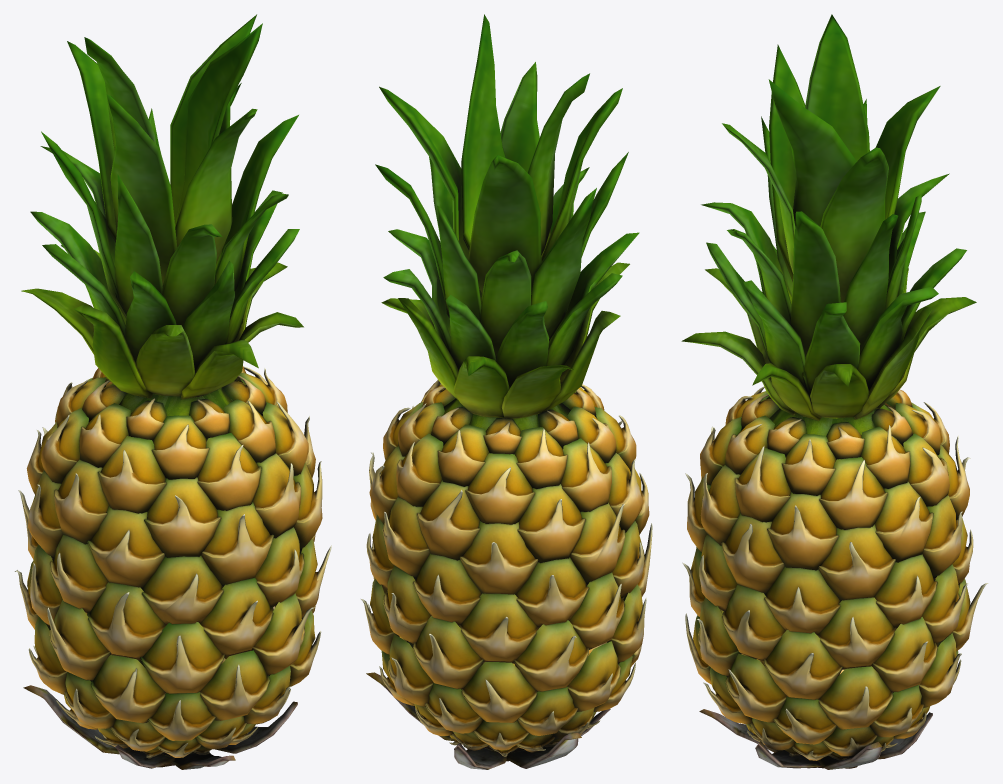
Rendered from Exploding Pinaple  Separated.fbx.
The picture shows the model from 3 angles, left to right: view 1: azimuth 30°, elevation 25°; view 2: azimuth 150°, elevation 25°; view 3: azimuth 270°, elevation 25°; orthographic projection. The views are drawn at different scales.
Visible parts, largest first — view 1: PineApple_Final.027, PineApple_Final.031, PineApple_Final.016, PineApple_Final.101, PineApple_Final.059, PineApple_Final.038, PineApple_Final.045, PineApple_Final.052, PineApple_Final.044, PineApple_Final.058, PineApple_Final.108, PineApple_Final.033 (+57 smaller); view 2: PineApple_Final.023, PineApple_Final.031, PineApple_Final.040, PineApple_Final.009, PineApple_Final.054, PineApple_Final.103, PineApple_Final.061, PineApple_Final.110, PineApple_Final.104, PineApple_Final.047, PineApple_Final.015, PineApple_Final.068 (+54 smaller); view 3: PineApple_Final.024, PineApple_Final.031, PineApple_Final.032, PineApple_Final.006, PineApple_Final.042, PineApple_Final.106, PineApple_Final.056, PineApple_Final.064, PineApple_Final.050, PineApple_Final.112, PineApple_Final.010, PineApple_Final.070 (+59 smaller).
Part boxes in pixels (x1,y1,x2,y2): PineApple_Final.027: [106, 94, 177, 285]; PineApple_Final.031: [175, 23, 262, 226]; PineApple_Final.016: [175, 108, 257, 263]; PineApple_Final.101: [144, 477, 221, 557]; PineApple_Final.059: [140, 622, 224, 693]; PineApple_Final.038: [87, 506, 164, 588]; PineApple_Final.045: [142, 555, 223, 625]; PineApple_Final.052: [87, 582, 165, 660]; PineApple_Final.044: [201, 502, 273, 586]; PineApple_Final.058: [200, 577, 273, 657]; PineApple_Final.108: [97, 436, 166, 513]; PineApple_Final.033: [162, 224, 222, 326]; PineApple_Final.023: [468, 155, 541, 293]; PineApple_Final.031: [461, 14, 505, 250]; PineApple_Final.040: [459, 521, 538, 594]; PineApple_Final.009: [531, 188, 596, 340]; PineApple_Final.054: [458, 593, 539, 663]; PineApple_Final.103: [517, 484, 585, 562]; PineApple_Final.061: [513, 620, 588, 691]; PineApple_Final.110: [465, 453, 534, 524]; PineApple_Final.104: [416, 480, 480, 560]; PineApple_Final.047: [516, 557, 588, 627]; PineApple_Final.015: [480, 250, 531, 356]; PineApple_Final.068: [461, 662, 537, 722]; PineApple_Final.024: [820, 147, 888, 302]; PineApple_Final.031: [768, 79, 856, 226]; PineApple_Final.032: [805, 14, 869, 161]; PineApple_Final.006: [791, 211, 840, 356]; PineApple_Final.042: [818, 524, 895, 600]; PineApple_Final.106: [767, 492, 838, 570]; PineApple_Final.056: [817, 597, 896, 669]; PineApple_Final.064: [763, 629, 842, 699]; PineApple_Final.050: [764, 566, 840, 634]; PineApple_Final.112: [819, 457, 887, 529]; PineApple_Final.010: [843, 214, 898, 350]; PineApple_Final.070: [818, 666, 892, 729].
Bounding box in the file's own units: 1102 × 2910 × 1145.
